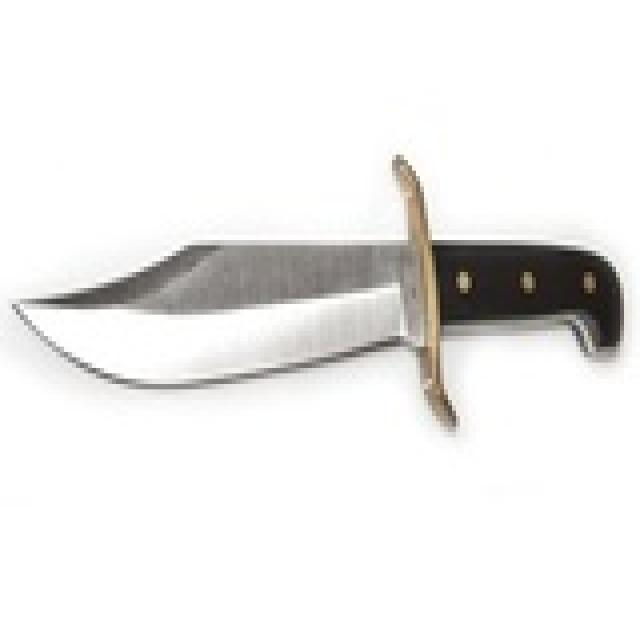Knife: (11, 138, 630, 450)
